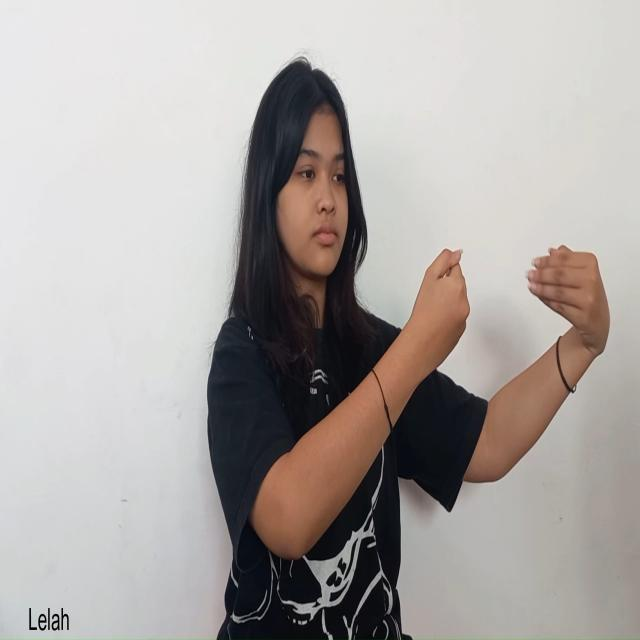Lelah -BISINDO-: (410, 242, 612, 384)
